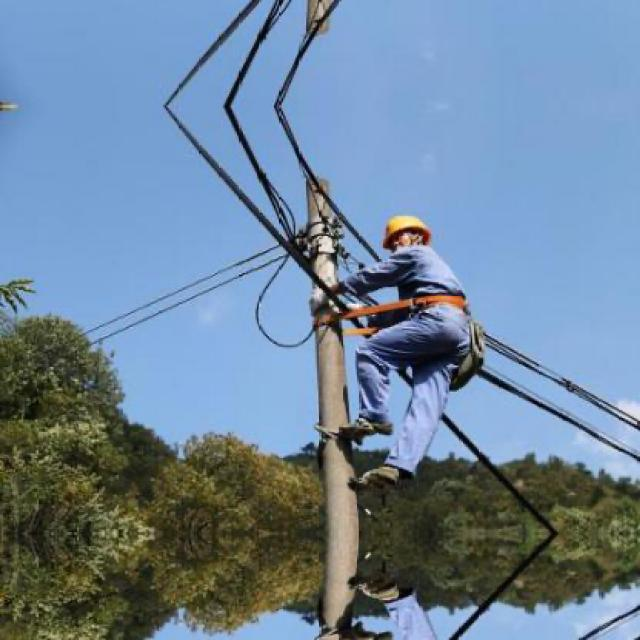helmet: (378, 208, 434, 255)
